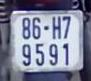1: (61, 42, 71, 66)
5: (34, 42, 46, 67)
6: (32, 17, 42, 41)
7: (63, 15, 72, 40)
8: (21, 17, 31, 40)
9: (47, 43, 59, 67), (21, 43, 32, 67)
H: (51, 15, 63, 39)
